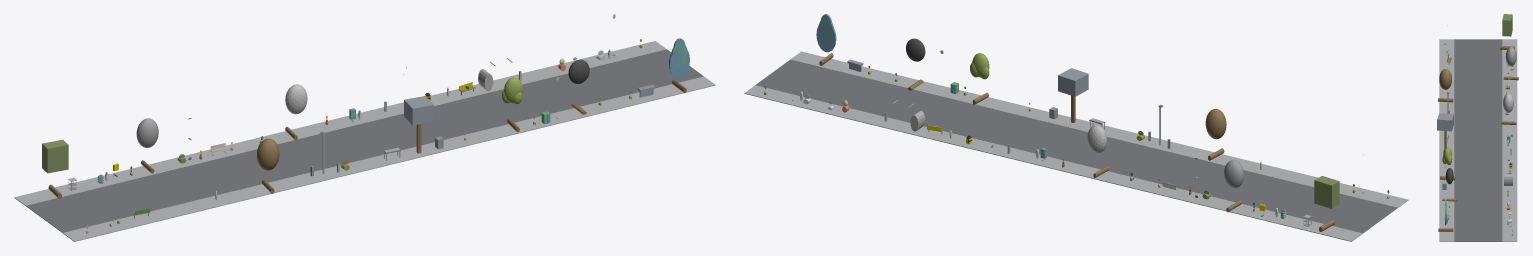
3 renders of one model, left to right at view 1: azimuth 30°, elevation 25°; view 2: azimuth 150°, elevation 25°; view 3: azimuth 270°, elevation 25°, orthographic. The views are drawn at different scales.
Visible parts, largest first — view 1: road_slab, sidewalk_left, sidewalk_right, inst_0022, inst_0018, inst_0025, inst_0020, inst_0021, inst_0019, inst_0023, inst_0024; view 2: road_slab, sidewalk_right, sidewalk_left, inst_0022, inst_0018, inst_0025, inst_0020, inst_0021, inst_0019, inst_0023, inst_0024; view 3: road_slab, sidewalk_right, sidewalk_left, inst_0022, inst_0020, inst_0018, inst_0021, inst_0019, inst_0023, inst_0024, inst_0025, inst_0026.
Boxes of the visible parts, box(x1,y1,x2,y2) form: road_slab: box(26, 49, 703, 232); sidewalk_left: box(63, 76, 715, 241); sidewalk_right: box(14, 41, 666, 205); inst_0022: box(404, 96, 433, 153); inst_0018: box(42, 139, 68, 198); inst_0025: box(669, 38, 689, 93); inst_0020: box(257, 138, 279, 193); inst_0021: box(285, 84, 307, 140); inst_0019: box(136, 118, 158, 173); inst_0023: box(502, 77, 523, 132); inst_0024: box(568, 59, 589, 114); road_slab: box(755, 59, 1397, 233); sidewalk_right: box(744, 85, 1362, 241); sidewalk_left: box(790, 51, 1408, 207); inst_0022: box(1058, 68, 1088, 122); inst_0018: box(1314, 176, 1339, 231); inst_0025: box(816, 14, 836, 65); inst_0020: box(1205, 109, 1226, 160); inst_0021: box(1087, 125, 1109, 177); inst_0019: box(1224, 160, 1244, 212); inst_0023: box(970, 53, 989, 104); inst_0024: box(906, 38, 925, 90); road_slab: box(1454, 39, 1502, 241); sidewalk_right: box(1502, 39, 1517, 241); sidewalk_left: box(1439, 39, 1454, 241); inst_0022: box(1437, 113, 1453, 148); inst_0020: box(1438, 69, 1453, 102); inst_0018: box(1500, 14, 1514, 49); inst_0021: box(1501, 93, 1516, 124); inst_0019: box(1503, 47, 1518, 80); inst_0023: box(1440, 147, 1455, 180); inst_0024: box(1442, 168, 1457, 201); inst_0025: box(1438, 199, 1453, 231); inst_0026: box(1504, 173, 1512, 185).
Bounding box in the file's own units: 80 × 6.08 × 13.65.
